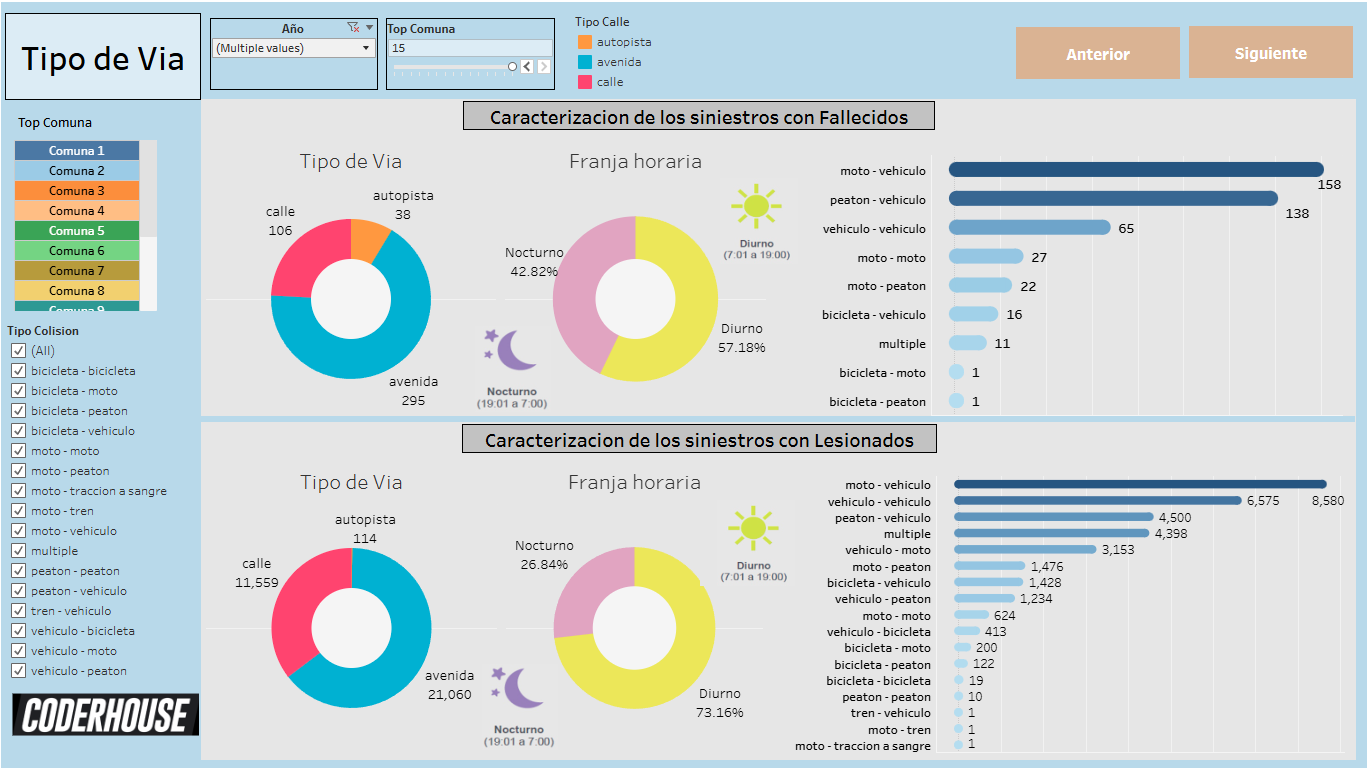

The page's visual inventory and layout, read from the dashboard file:
{"tool":"powerbi","page":{"name":"Tipo de via","canvas":[1280,720],"ordinal":3},"visuals":[{"type":"pageNavigator","box":[548.9,30,731.1,28.9],"z":0},{"type":"donutChart","title":"Tipo de Via","fields":{"Y":["Medidas.Cantidad victimas fatales"],"Category":["TipoVia.tipo_calle"]},"box":[233.6,129.1,340,234.5],"z":1000},{"type":"donutChart","title":"Tipo de Via","fields":{"Y":["Medidas.Cantidad victimas lesionadas"],"Category":["TipoVia.tipo_calle"]},"box":[234,452,340,235],"z":2000},{"type":"barChart","title":"Tipo de siniestros Fatales","fields":{"Y":["Medidas.Cantidad victimas fatales"],"Category":["TipoSiniestro.tipo_colision"]},"box":[854.4,67.8,425.6,286.7],"z":3000},{"type":"barChart","title":"Tipo de siniestros con Lesiones","fields":{"Y":["Medidas.Cantidad victimas lesionadas"],"Category":["TipoSiniestro.tipo_colision"]},"box":[854.3,381.1,425.9,338.9],"z":4000},{"type":"shape","box":[209,361.8,1071.2,23.7],"z":5000},{"type":"textbox","box":[210,68.2,410.9,46.4],"z":6000},{"type":"pieChart","title":"Franja Horaria","fields":{"Y":["Medidas.Cantidad victimas fatales"],"Category":["MomentoSiniestro.Franja Horaria"]},"box":[620.9,176.4,229.1,175.5],"z":6000,"group":"g1"},{"type":"pieChart","title":"Franja Horaria","fields":{"Y":["Medidas.Cantidad victimas lesionadas"],"Category":["MomentoSiniestro.Franja Horaria"]},"box":[625,525,229,175],"z":6000,"group":"g2"},{"type":"textbox","box":[210,381.8,479.1,46.4],"z":7000},{"type":"group","id":"g1","title":"Grupo 1","box":[620.9,90,229.1,261.8],"z":8000},{"type":"group","id":"g2","title":"Grupo 2","box":[625,439,229,261],"z":9000},{"type":"image","box":[621,91,107,85],"z":10000,"group":"g1"},{"type":"slicer","fields":{"Values":["MomentoSiniestro.fecha.Variación.Jerarquía de fechas.Año"]},"box":[10,241,188,72],"z":10000},{"type":"image","box":[728.2,90,121.8,86.4],"z":11000,"group":"g1"},{"type":"slicer","fields":{"Values":["MomentoSiniestro.fecha.Variación.Jerarquía de fechas.Mes"]},"box":[10,323.3,187.9,72.3],"z":11000},{"type":"slicer","fields":{"Values":["MomentoSiniestro.fecha.Variación.Jerarquía de fechas.Trimestre"]},"box":[10,409,188,73],"z":12000},{"type":"shape","box":[213.4,70.2,397.8,44.8],"z":13000},{"type":"image","box":[625,439,105,86],"z":13000,"group":"g2"},{"type":"shape","box":[213.6,381.8,460.9,46.4],"z":14000},{"type":"image","box":[730,439,124,86],"z":14000,"group":"g2"}]}

Visuals, with their boxes in screenshot pixels (x1, y1, x2, y2), scaled from the page's 1280x720 canvas onto the 1367x768 screenshot:
pageNavigator: Rect(586, 32, 1366, 63)
"Tipo de Via" donutChart: Rect(249, 138, 613, 388)
"Tipo de Via" donutChart: Rect(250, 482, 613, 733)
"Tipo de siniestros Fatales" barChart: Rect(912, 72, 1366, 378)
"Tipo de siniestros con Lesiones" barChart: Rect(912, 407, 1366, 767)
shape: Rect(223, 386, 1366, 411)
textbox: Rect(224, 73, 663, 122)
"Franja Horaria" pieChart: Rect(663, 188, 908, 375)
"Franja Horaria" pieChart: Rect(667, 560, 912, 747)
textbox: Rect(224, 407, 736, 457)
"Grupo 1" group: Rect(663, 96, 908, 375)
"Grupo 2" group: Rect(667, 468, 912, 747)
image: Rect(663, 97, 777, 188)
slicer - MomentoSiniestro.fecha.Variación.Jerarquía de fechas.Año: Rect(11, 257, 211, 334)
image: Rect(778, 96, 908, 188)
slicer - MomentoSiniestro.fecha.Variación.Jerarquía de fechas.Mes: Rect(11, 345, 211, 422)
slicer - MomentoSiniestro.fecha.Variación.Jerarquía de fechas.Trimestre: Rect(11, 436, 211, 514)
shape: Rect(228, 75, 653, 123)
image: Rect(667, 468, 780, 560)
shape: Rect(228, 407, 720, 457)
image: Rect(780, 468, 912, 560)
